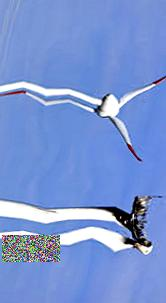faulty: (87, 191, 160, 259)
